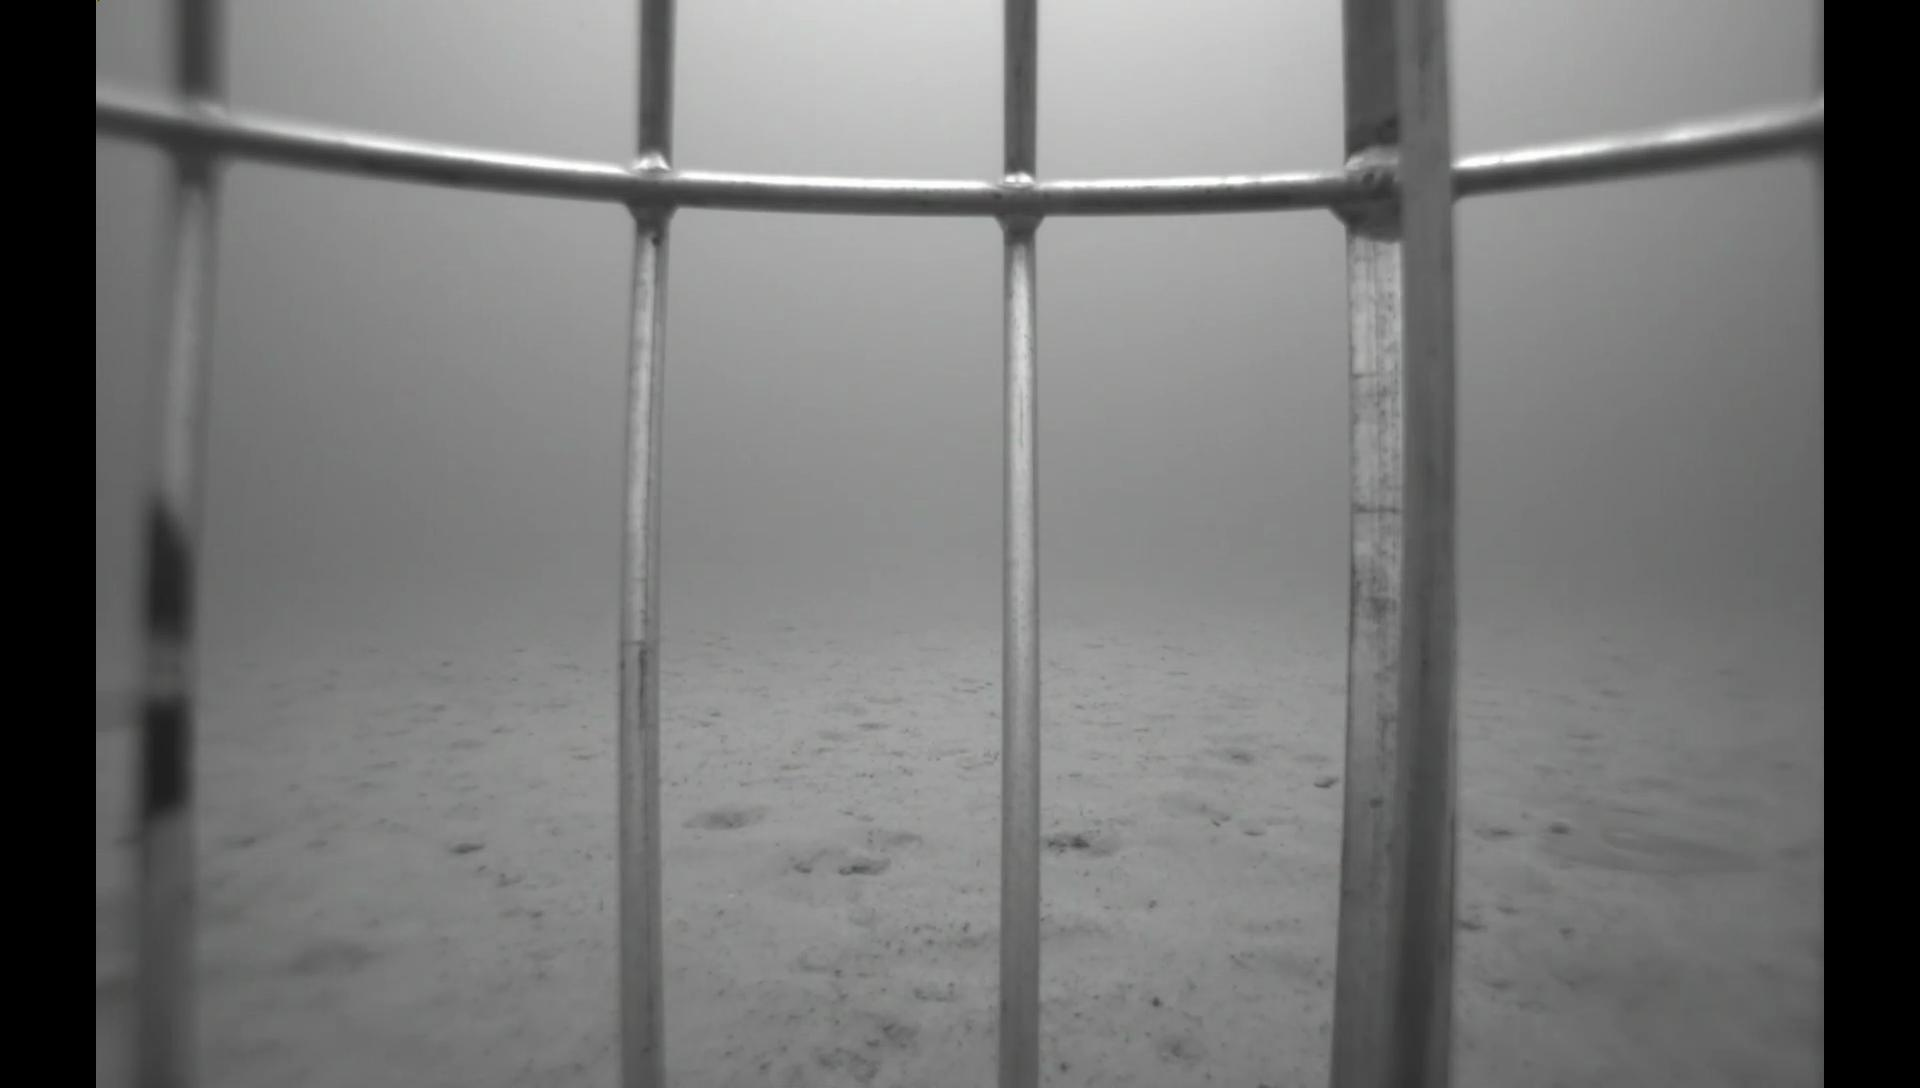CAULOLATILUSCYANOPS-170070101: (1514, 785, 1824, 910)
PRISTIPOMOIDES-170151800: (94, 849, 332, 968)
